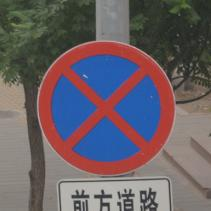No Parking: (37, 38, 180, 180)
